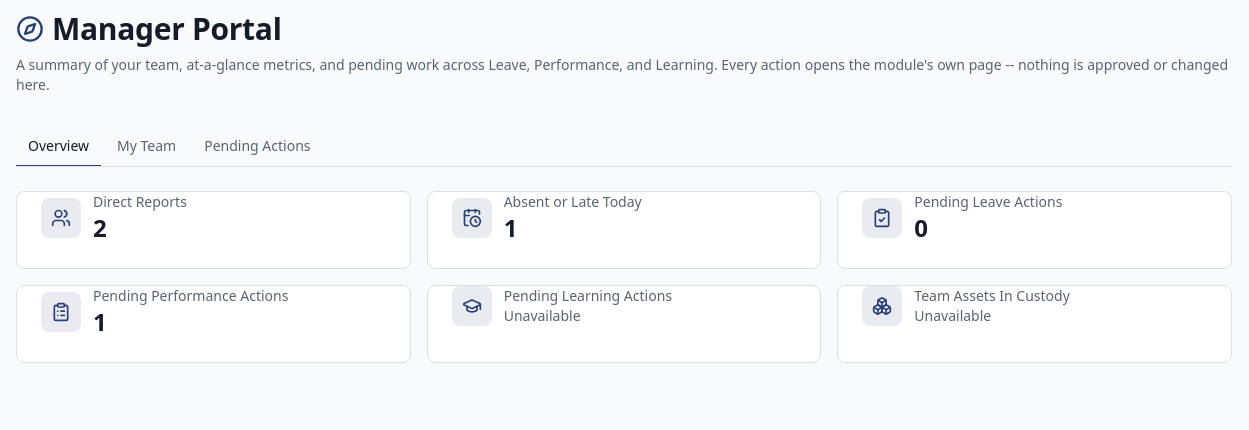
Test: Manager Portal page › My Team › shows a team error state with retry
Click the tab with test id "tab-manager-my-team" at (147, 147), box top-left (105, 127), bottom-right (188, 167)
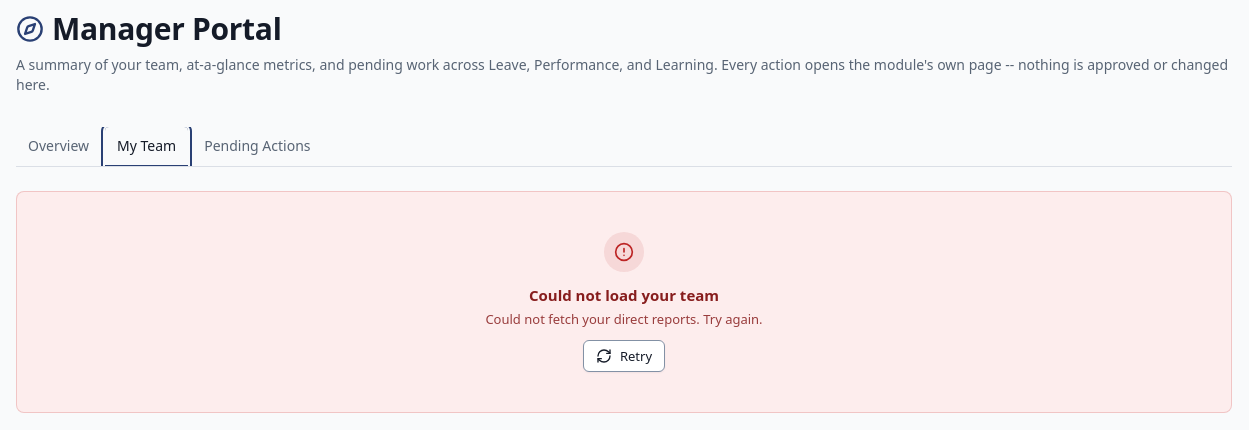
Result: the text "Could not load your team" is shown at top-left (529, 285), bottom-right (719, 305)
